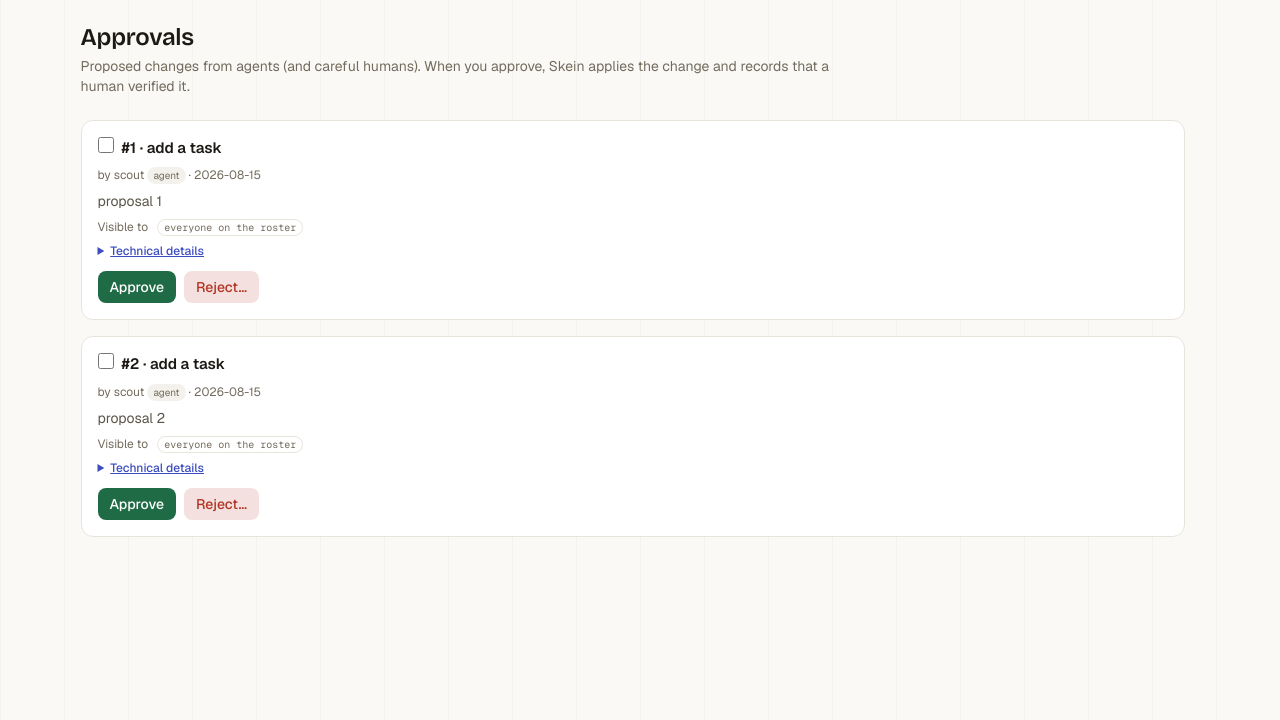
the pending review cursor › keeps a forbidden batch row and removes only approved rows
Expected: the text "proposal 2" is shown, [98,409,165,427]
What coordinates should you click on to do the following:
click the checkbox named "Select #1 add a task for batch approval"
I would click on:
 (106, 145)
Its box is [98,137,114,153].
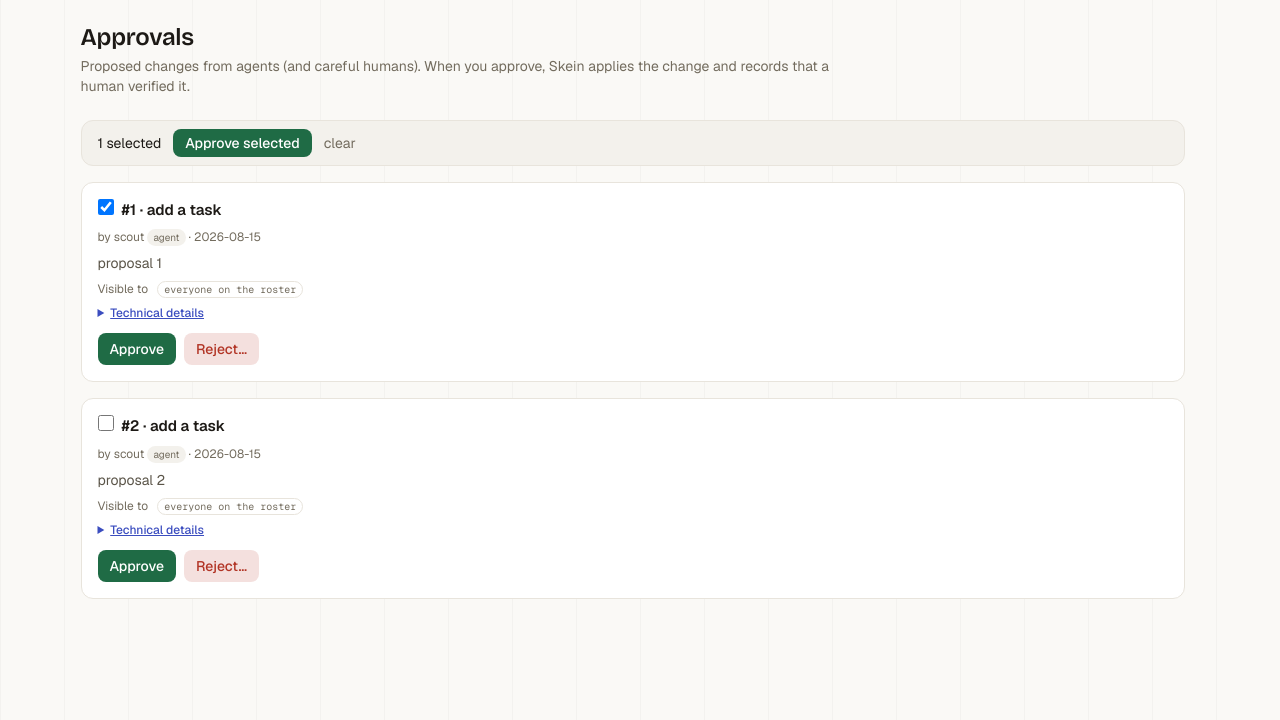
What coordinates should you click on to do the following:
click the checkbox named "Select #2 add a task for batch approval"
I would click on:
 (106, 423)
Its box is [98,415,114,431].
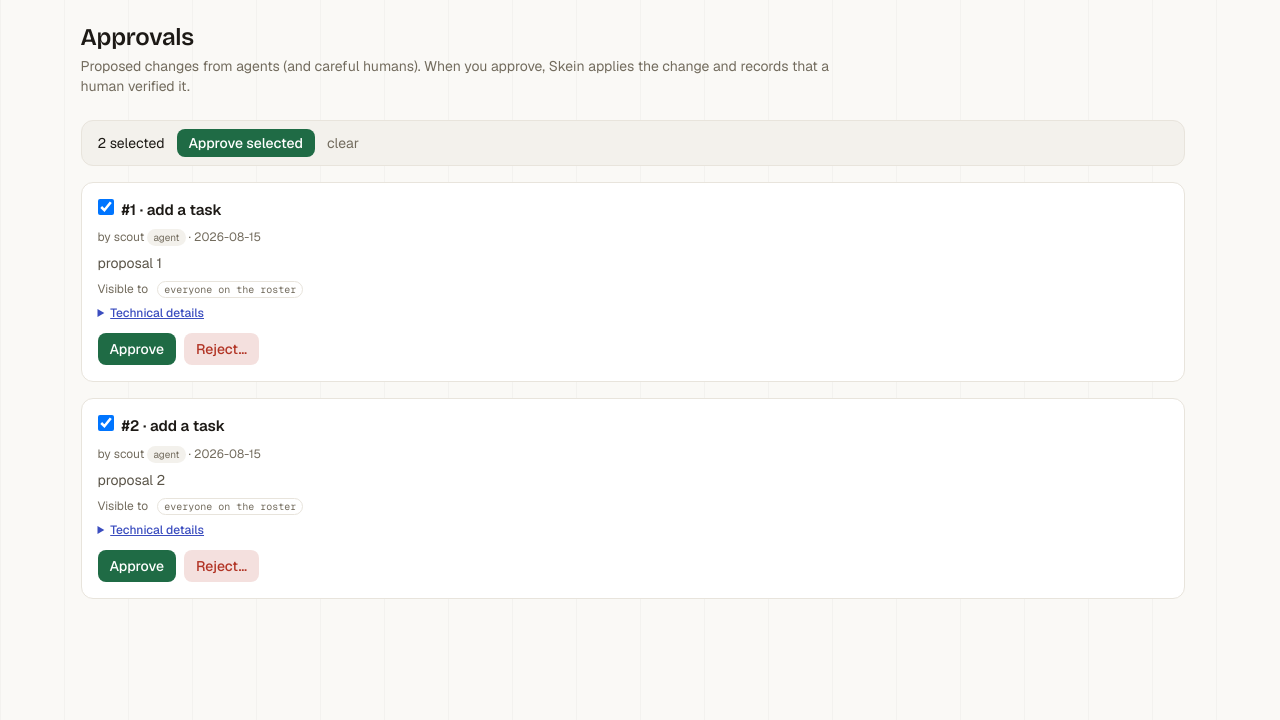
What coordinates should you click on to do the following:
click the button "Approve selected"
I would click on:
 (246, 143)
Its box is [176,129,315,157].
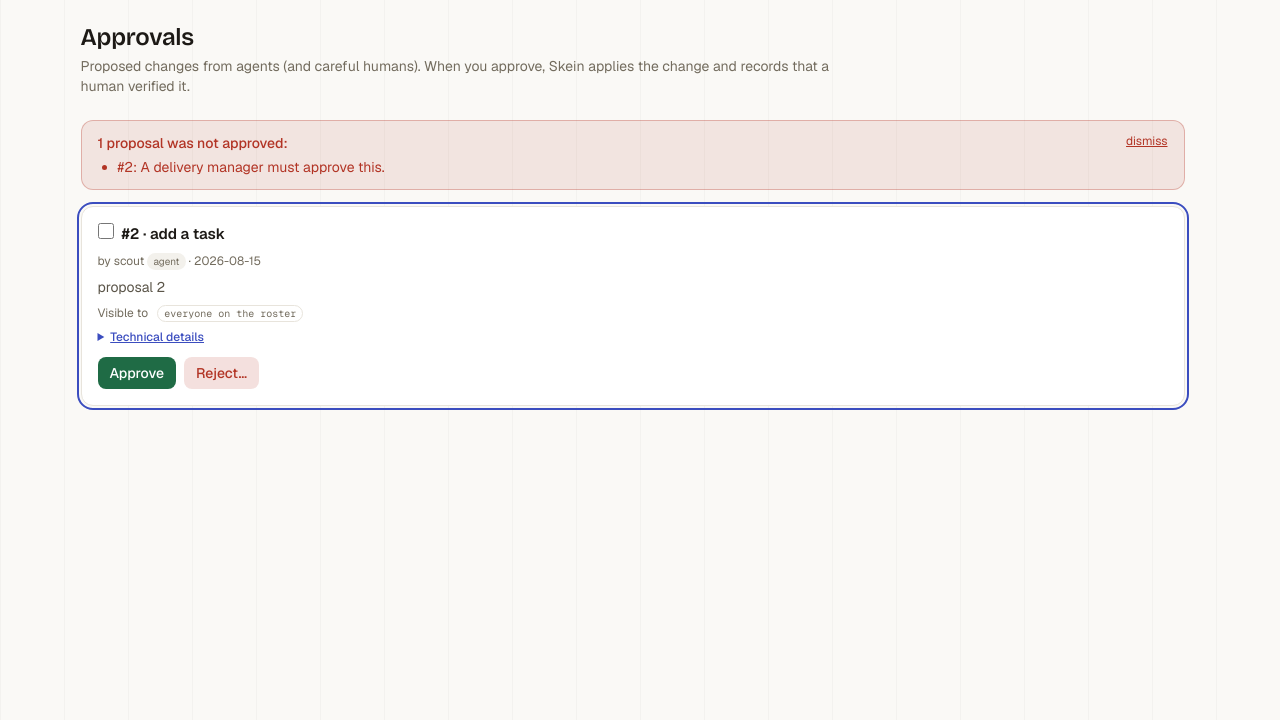
Expected: the text "proposal 2" is shown, [98,278,165,296]
Expected: the text "proposal 1" is gone
Expected: the message shows "#2: A delivery manager must approve this.", [80,120,1184,190]
